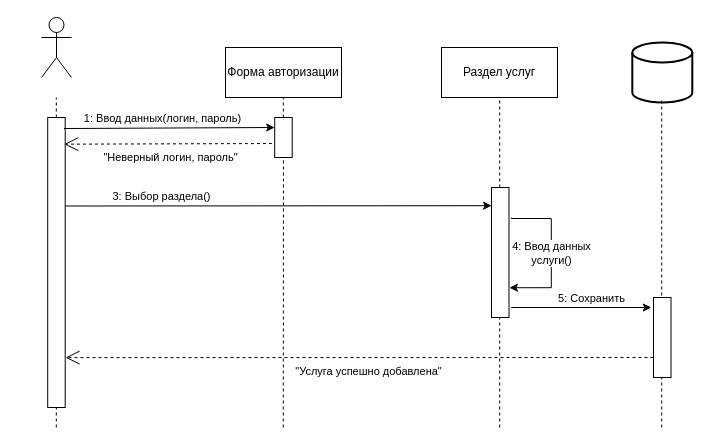
This 711x446 diagram has some shape labels left out. The shapes that lost their labels are listed below. From the top down, each one's box as (x1, y1, x2, y2) in pixels, then its label:
(40, 16, 72, 78): Администратор
(631, 41, 693, 103): БД
